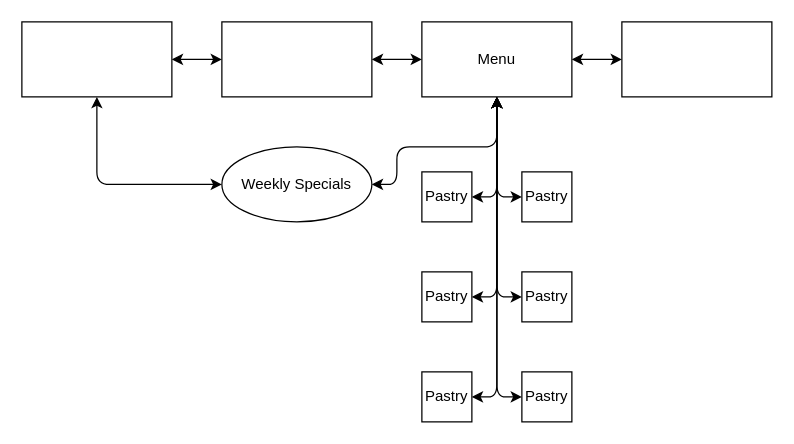
Some shapes in this 794 by 444 pixel diagram are drawn without their labels. The shapes that lost their labels are listed below. From the top down, each one's centre as x and y in pixels, then its label:
the point at 96,59: Home
the point at 296,59: About Me
the point at 696,59: Contacts
